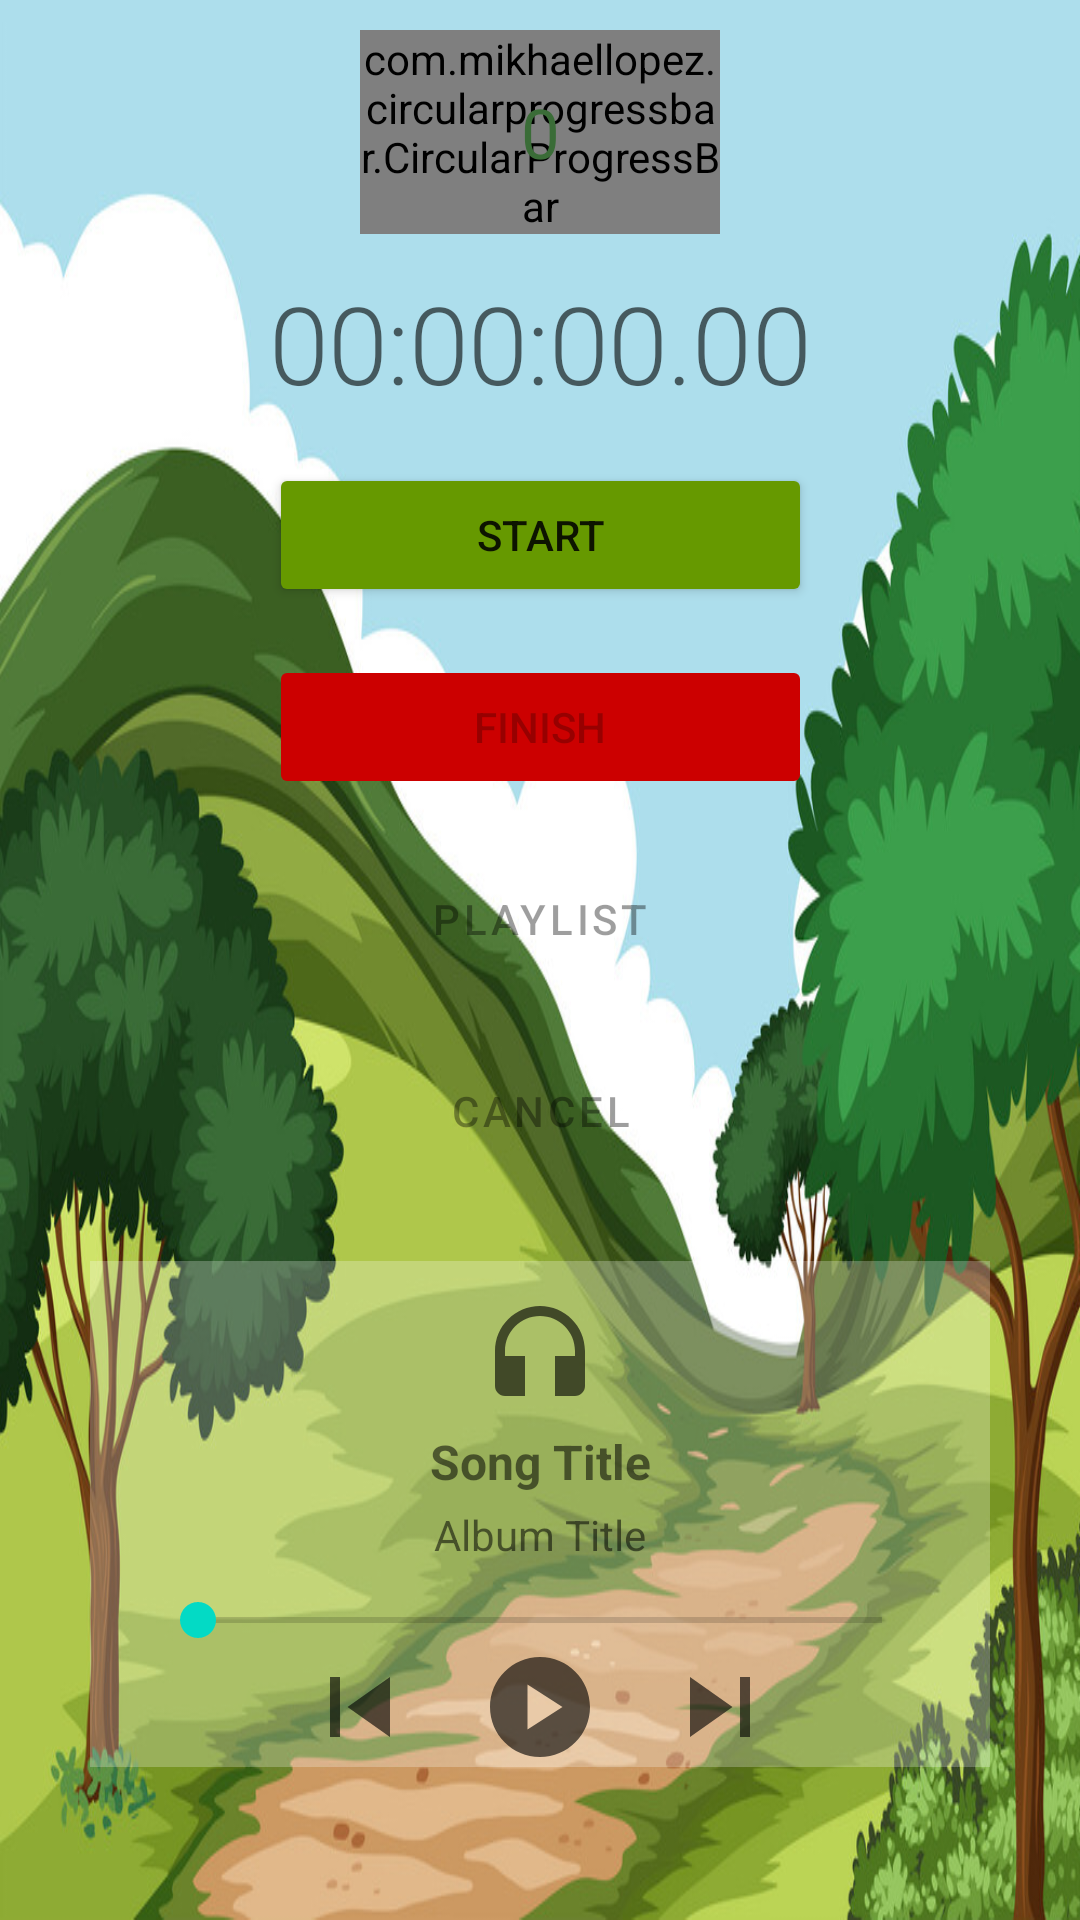

Point at icon controls on the screen. Image size 1080px x 1920px, points as (x=x, y=y).
headphones: (x=546, y=1344)
play: (x=540, y=1707)
